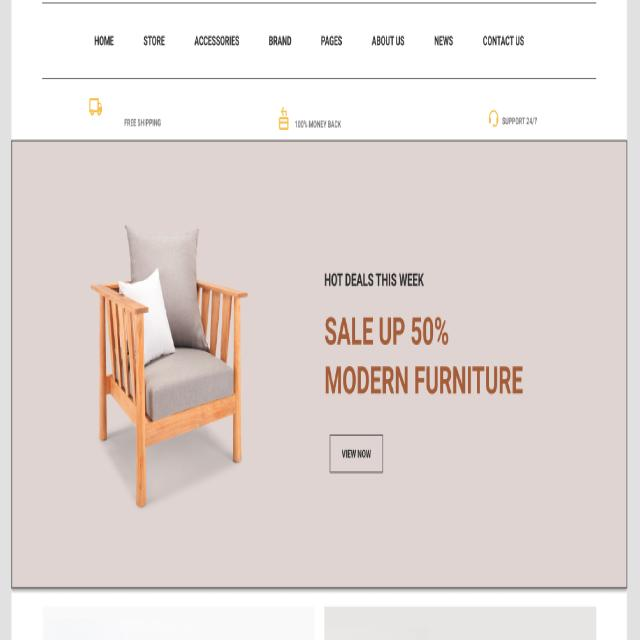HeroFullWidthBanner: (10, 136, 627, 592)
